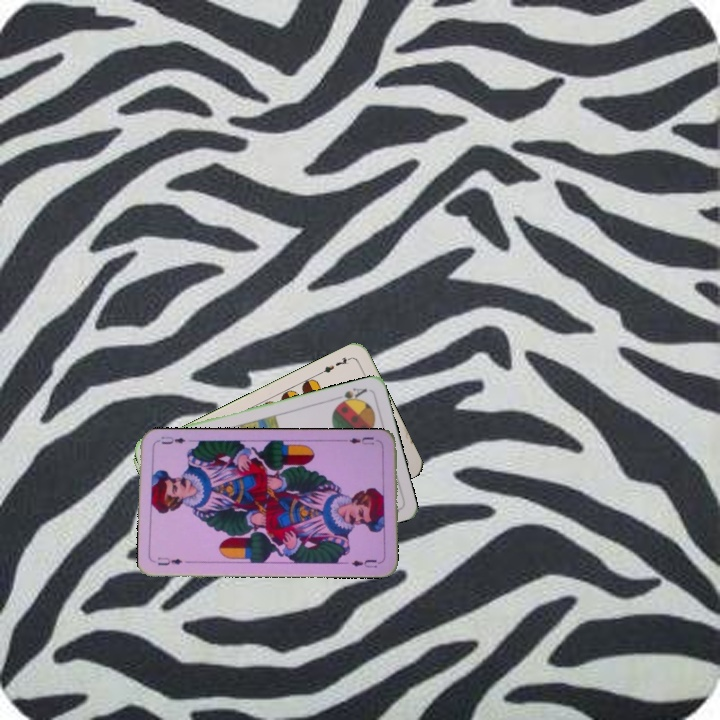E7: (316, 353, 354, 377)
EU: (341, 433, 382, 447), (154, 553, 185, 568)
SA: (331, 384, 370, 408)
